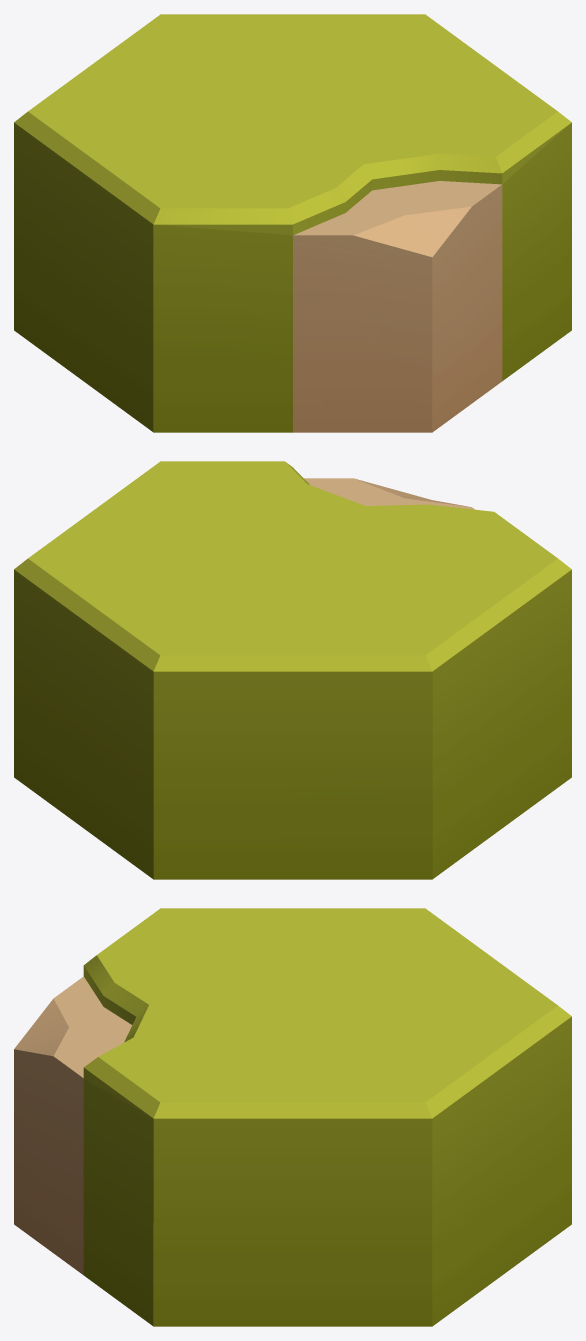
The model's file is hex_coast_e.glb.
3 renders of one model, top to bottom at view 1: azimuth 30°, elevation 25°; view 2: azimuth 150°, elevation 25°; view 3: azimuth 270°, elevation 25°, orthographic.
Parts seen in each view (by area): view 1: hex_coast_E; view 2: hex_coast_E; view 3: hex_coast_E.
Part boxes in pixels (x1,y1,x2,y2): hex_coast_E: (14, 14, 571, 432); hex_coast_E: (14, 461, 571, 879); hex_coast_E: (14, 908, 571, 1326).
Size of the model in its own units: 2 by 1 by 2.31.
1 material, 1 textured.
